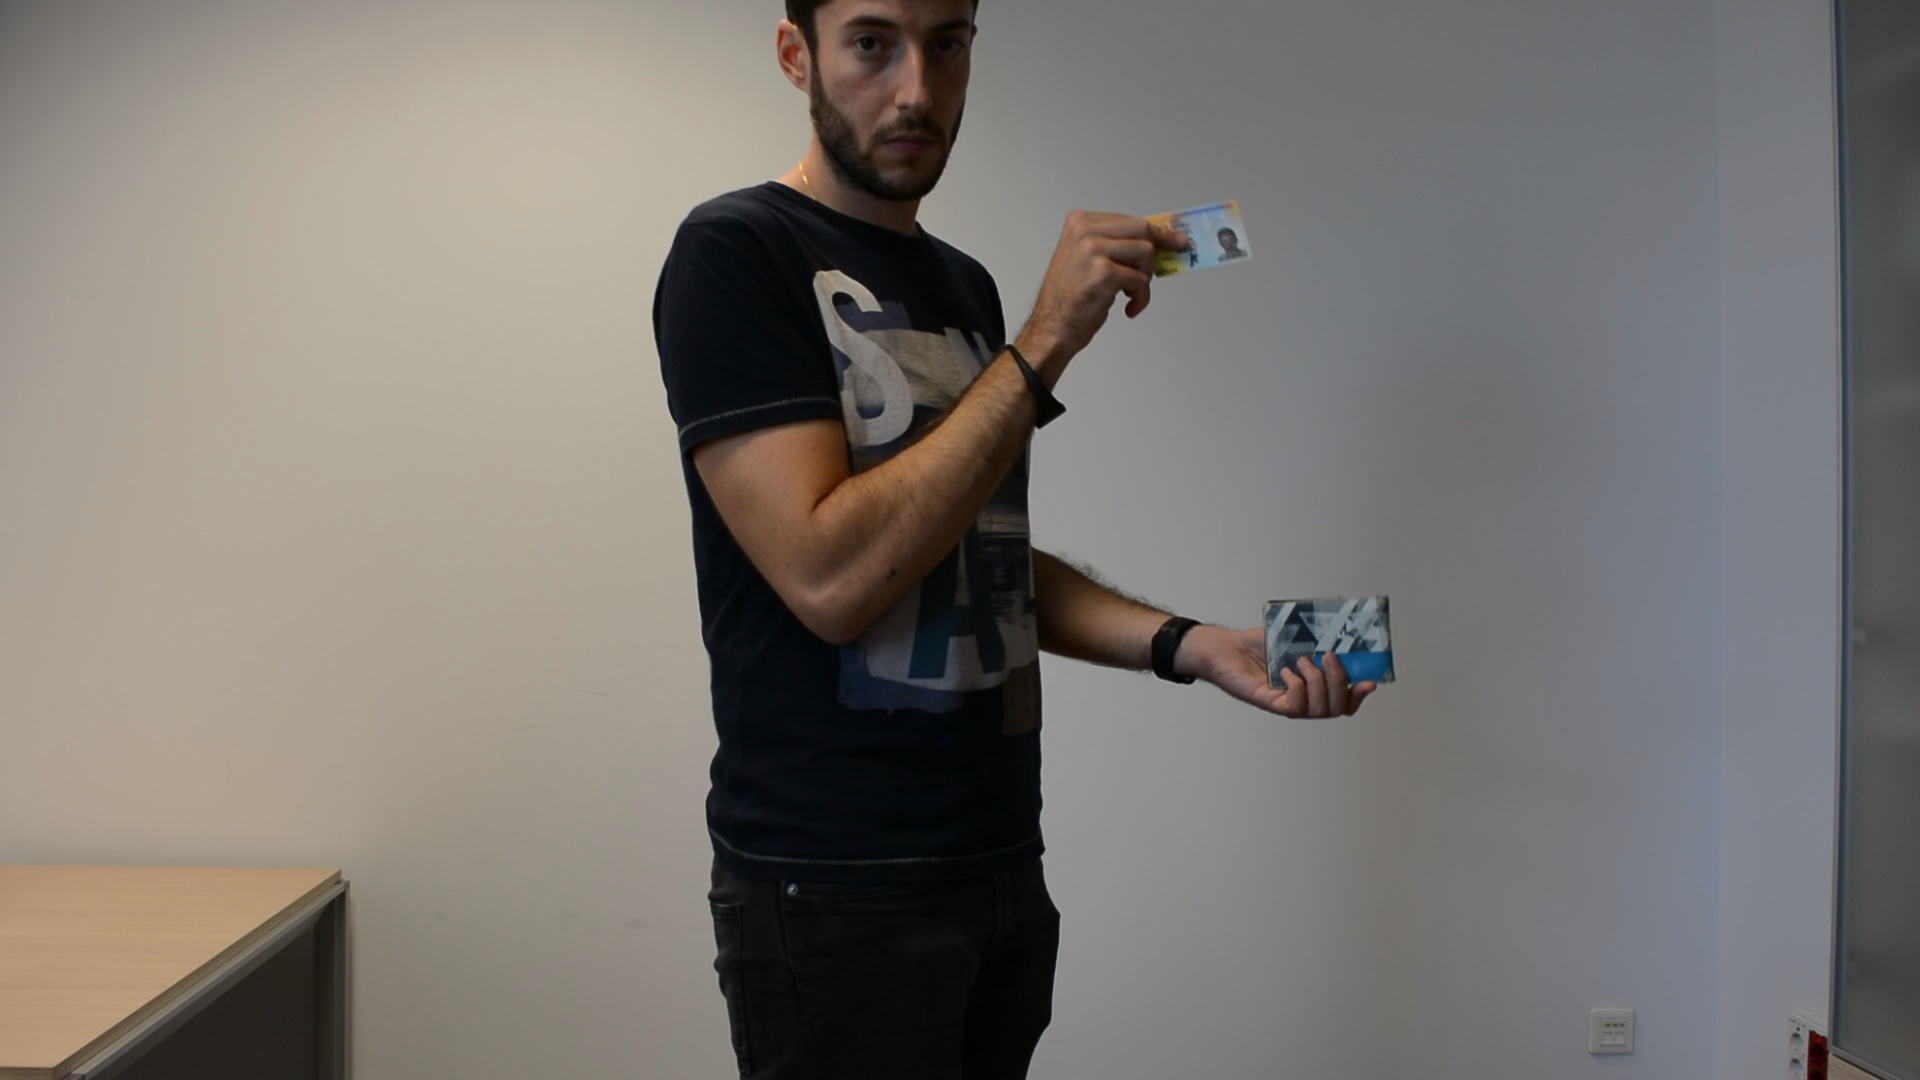monedero: (1261, 593, 1398, 688)
tarjeta: (1138, 195, 1258, 278)
